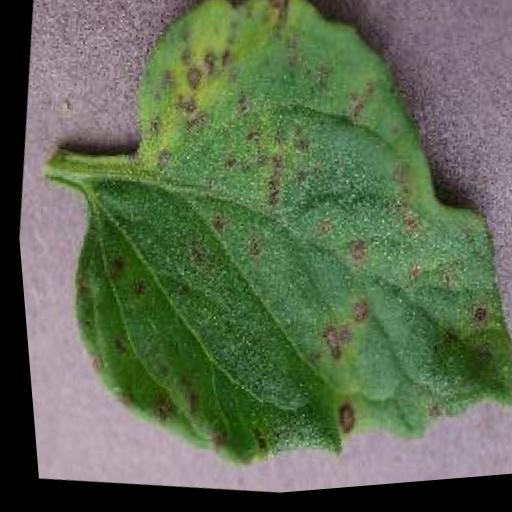Septoria: (28, 0, 512, 510)
